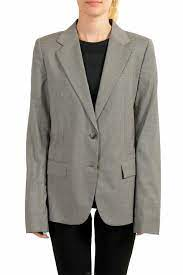blazer: (28, 20, 158, 231)
slacks: (47, 202, 136, 275)
